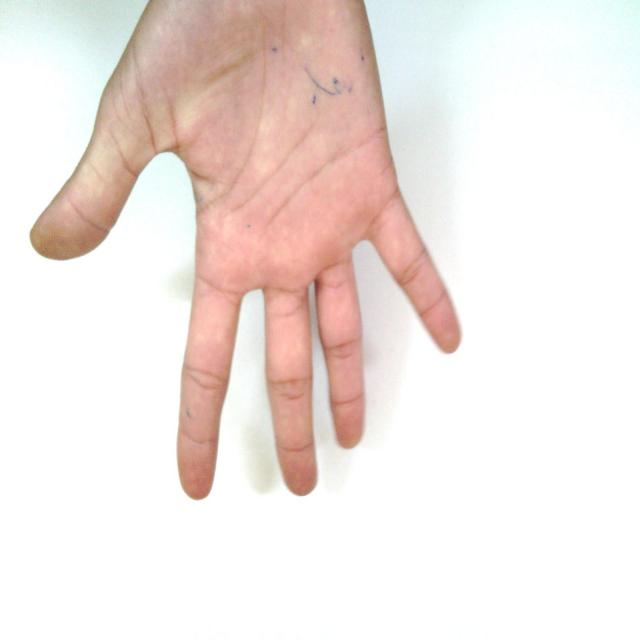others: (20, 1, 556, 499)
